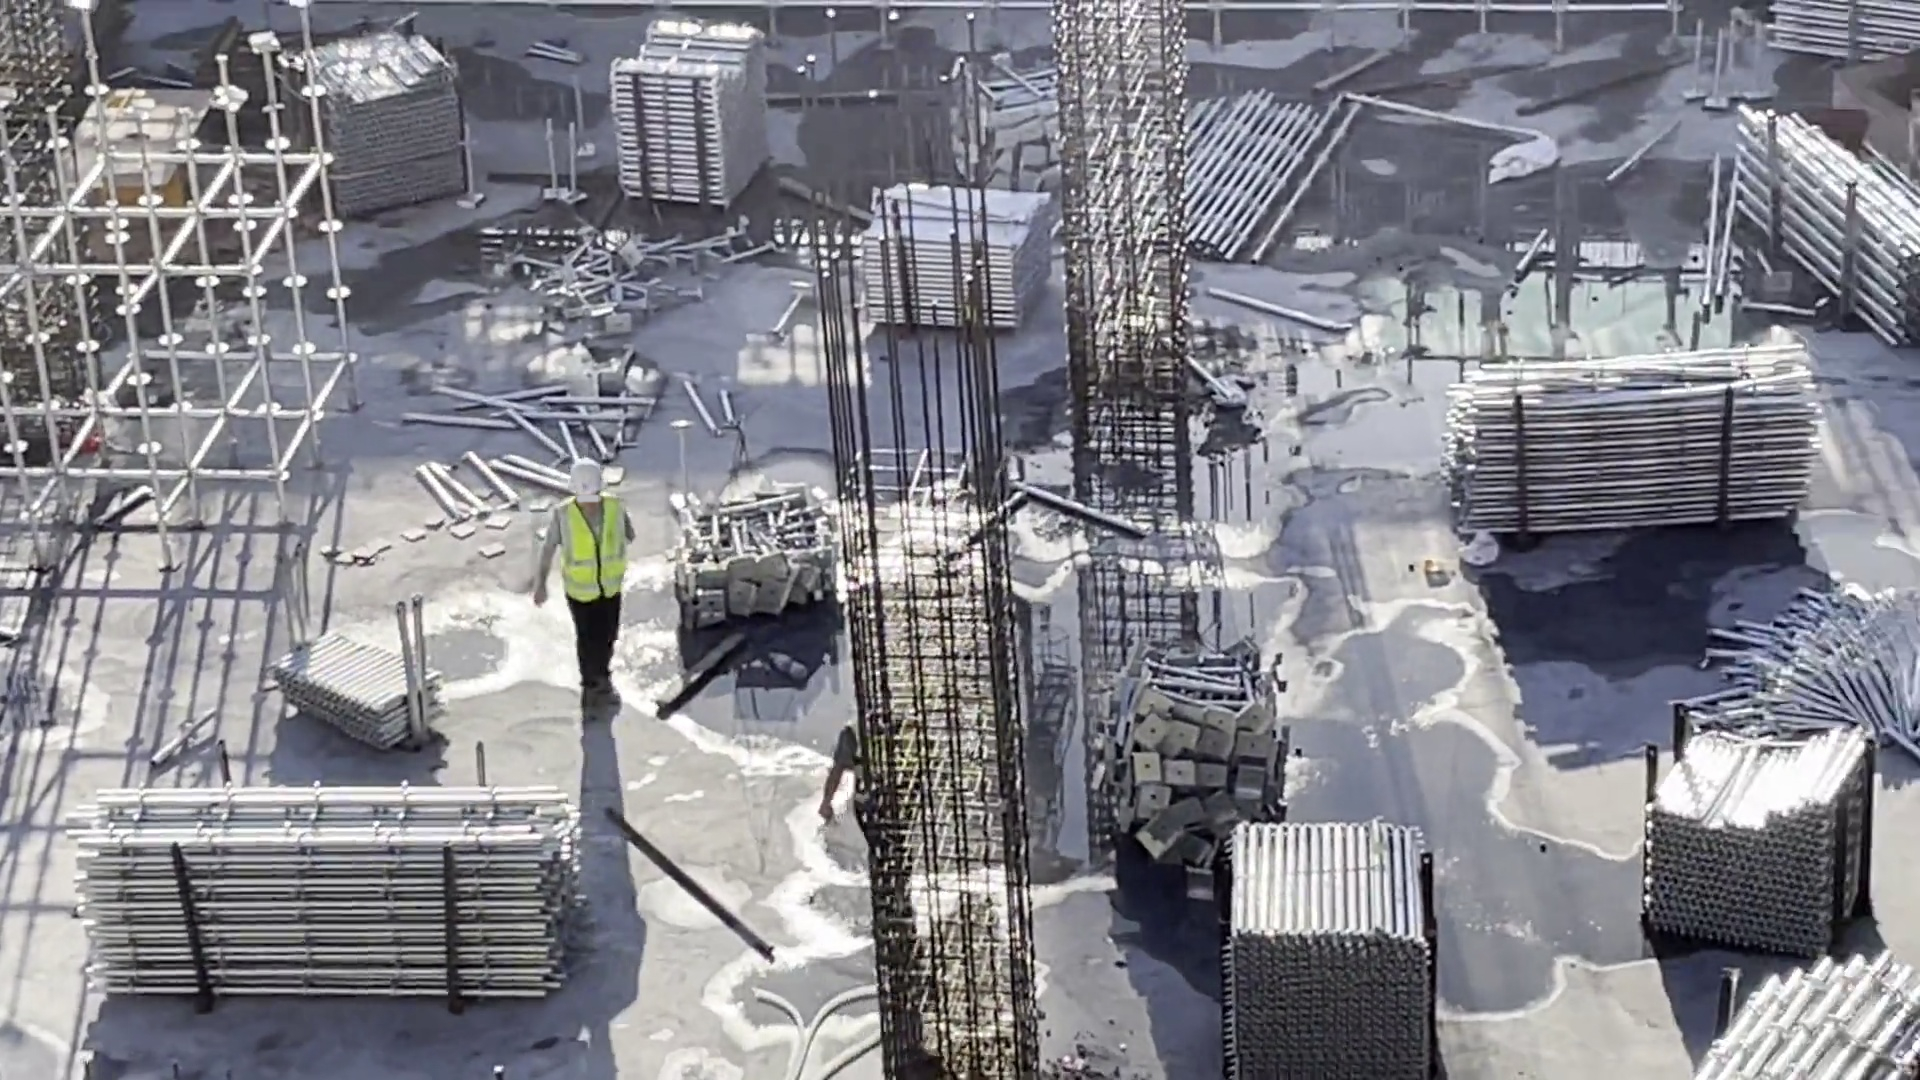cutter: (75, 94, 200, 240)
helmet: (570, 465, 607, 507)
person: (529, 458, 638, 702), (811, 691, 910, 906)
scaffold: (84, 796, 573, 1011), (1640, 739, 1864, 973), (1439, 373, 1805, 516), (1229, 824, 1435, 1051), (1706, 583, 1920, 755), (1077, 114, 1343, 240), (269, 571, 441, 753), (306, 42, 490, 191), (609, 14, 745, 206), (871, 209, 1052, 345), (1696, 961, 1892, 1080)
vest: (555, 510, 627, 606)
